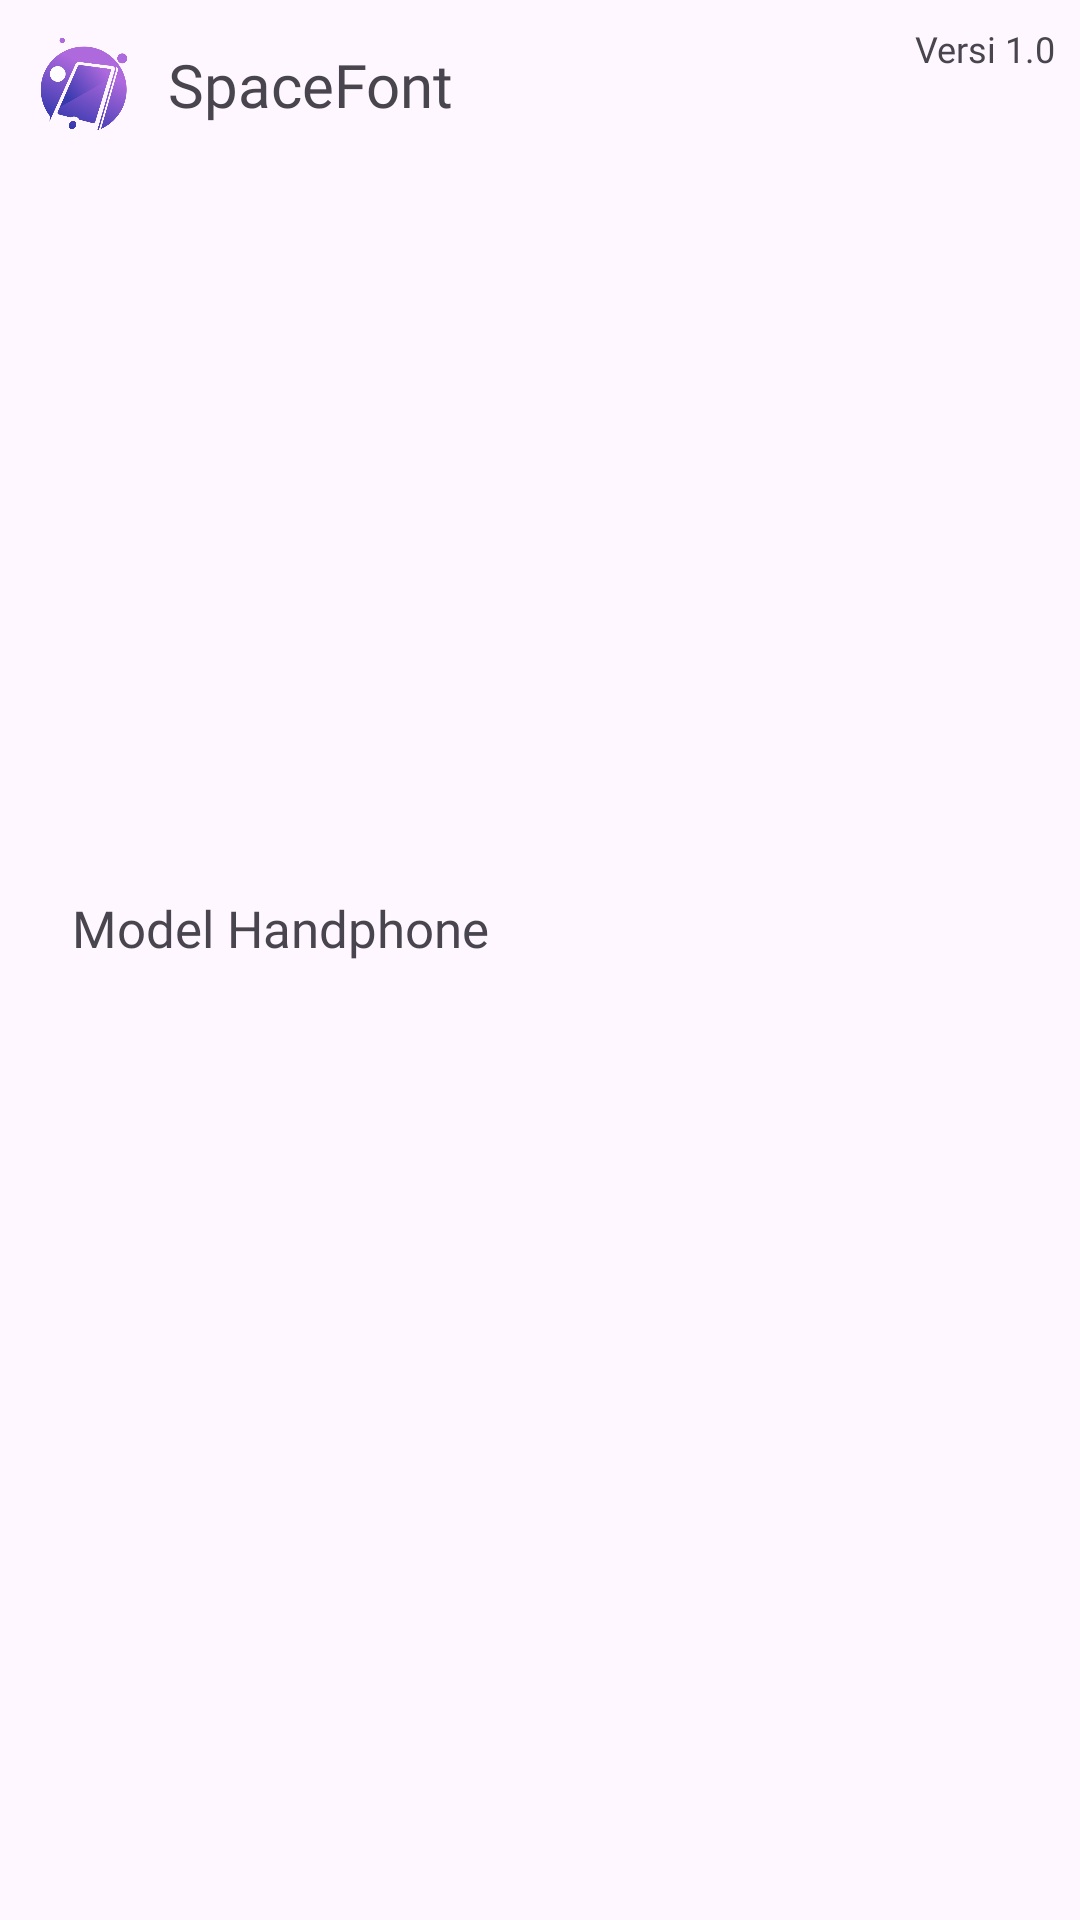

Where icons sit on this 1080x1920 app screen, as (x1, y1, x2, y2):
sfone: (41, 38, 127, 130)
